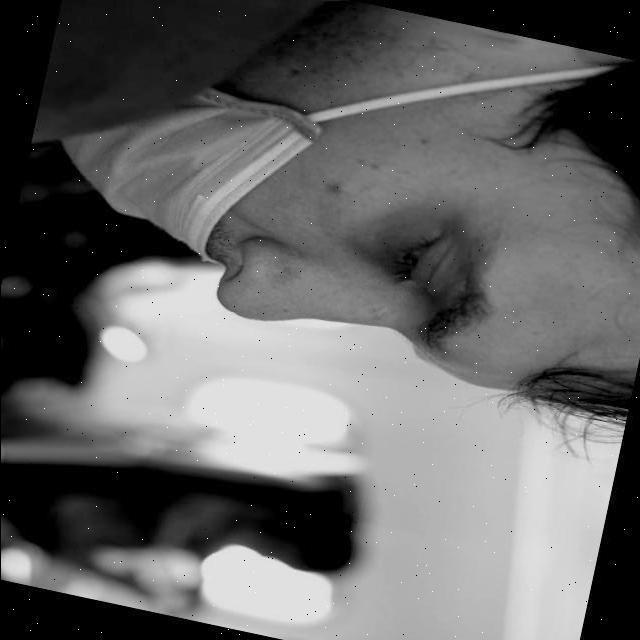no_gloves: (524, 54, 640, 399)
no_hairnet: (243, 178, 400, 348)
